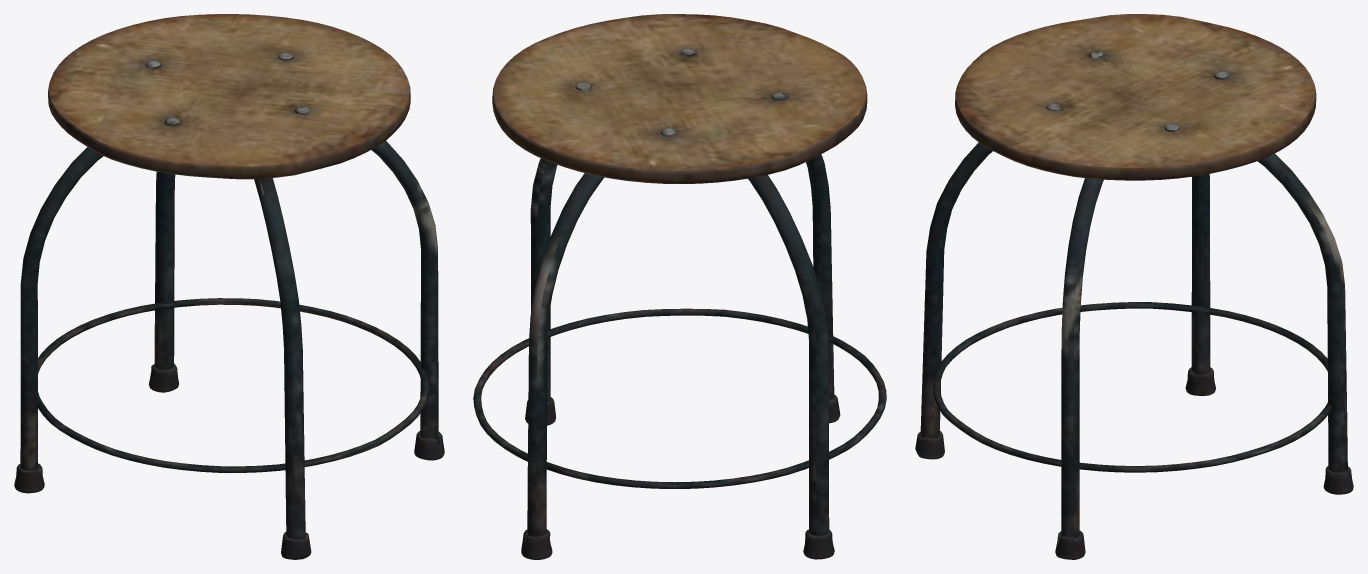
File: stool.glb
3 views of the same model, side by side, from view 1: azimuth 30°, elevation 25°; view 2: azimuth 150°, elevation 25°; view 3: azimuth 270°, elevation 25° (orthographic). The views are drawn at different scales.
Visible parts, largest first — view 1: stool; view 2: stool; view 3: stool.
Part boxes in pixels (x1,y1,x2,y2): stool: (14, 14, 444, 559); stool: (473, 14, 886, 559); stool: (915, 14, 1353, 559).
Size of the model in its own units: 0.4499 by 0.46 by 0.475.
1 material, 1 textured.
